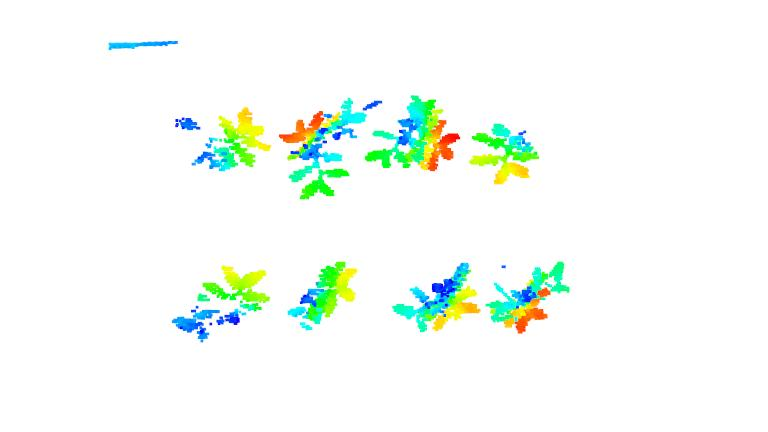chickpea: (171, 262, 276, 345), (284, 101, 363, 202), (362, 95, 461, 174), (482, 262, 578, 336), (392, 260, 483, 337), (186, 106, 271, 176), (288, 257, 360, 333), (468, 123, 542, 184)
